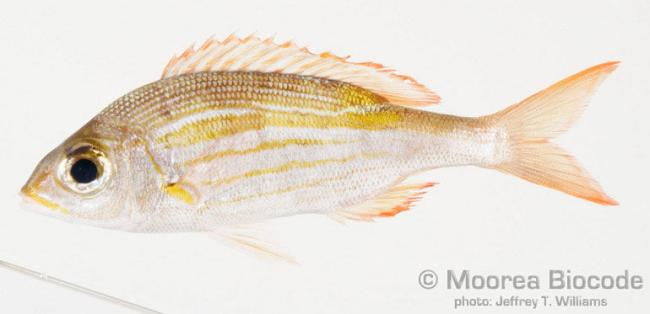fish: (19, 32, 623, 264)
